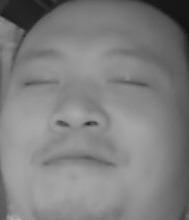blink: (106, 70, 148, 93), (23, 74, 59, 93)
mouth: (39, 143, 115, 182)
